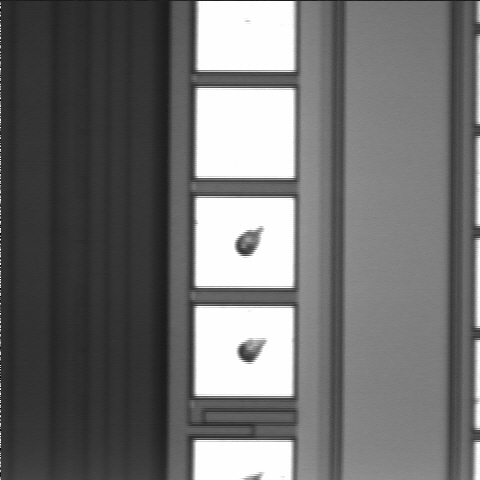pad: (196, 88, 294, 178), (196, 198, 294, 288), (195, 306, 293, 396)
